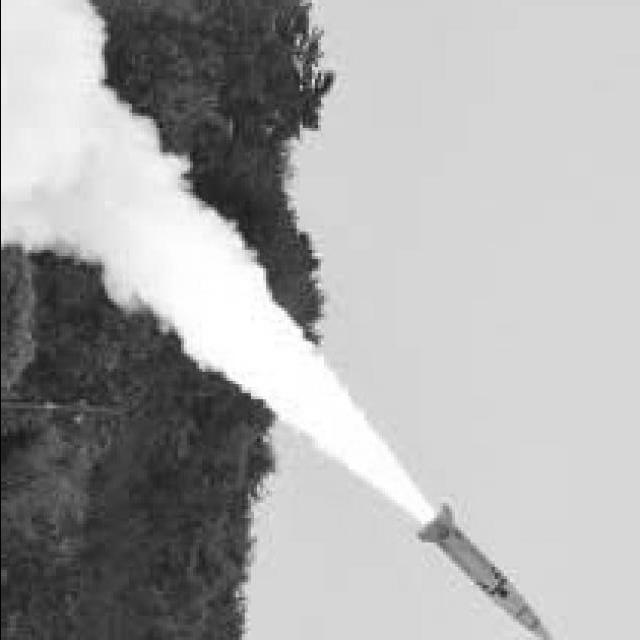Missile: (407, 494, 570, 637)
